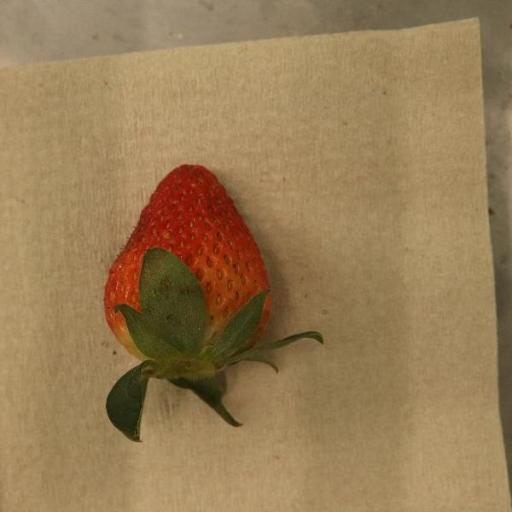Strawberry: (103, 165, 323, 444)
